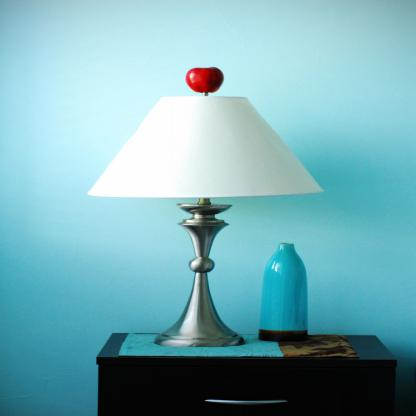vase: (254, 241, 310, 342)
